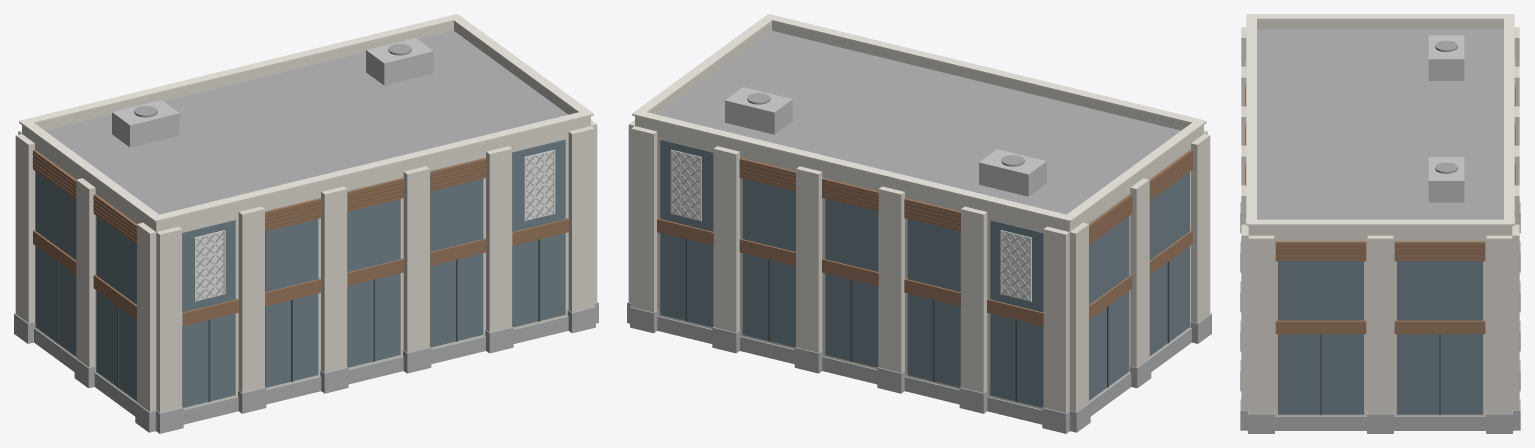
Rendered from blok2.glb.
3 views of the same model, side by side, from view 1: azimuth 30°, elevation 25°; view 2: azimuth 150°, elevation 25°; view 3: azimuth 270°, elevation 25° (orthographic).
Visible parts, largest first — view 1: base; view 2: base; view 3: base.
Boxes of the visible parts, x1,y1,x2,y2 form: base: [14, 14, 598, 433]; base: [627, 14, 1211, 433]; base: [1240, 14, 1520, 433].
Bounding box in the file's own units: 19.91 × 9.48 × 10.96.
